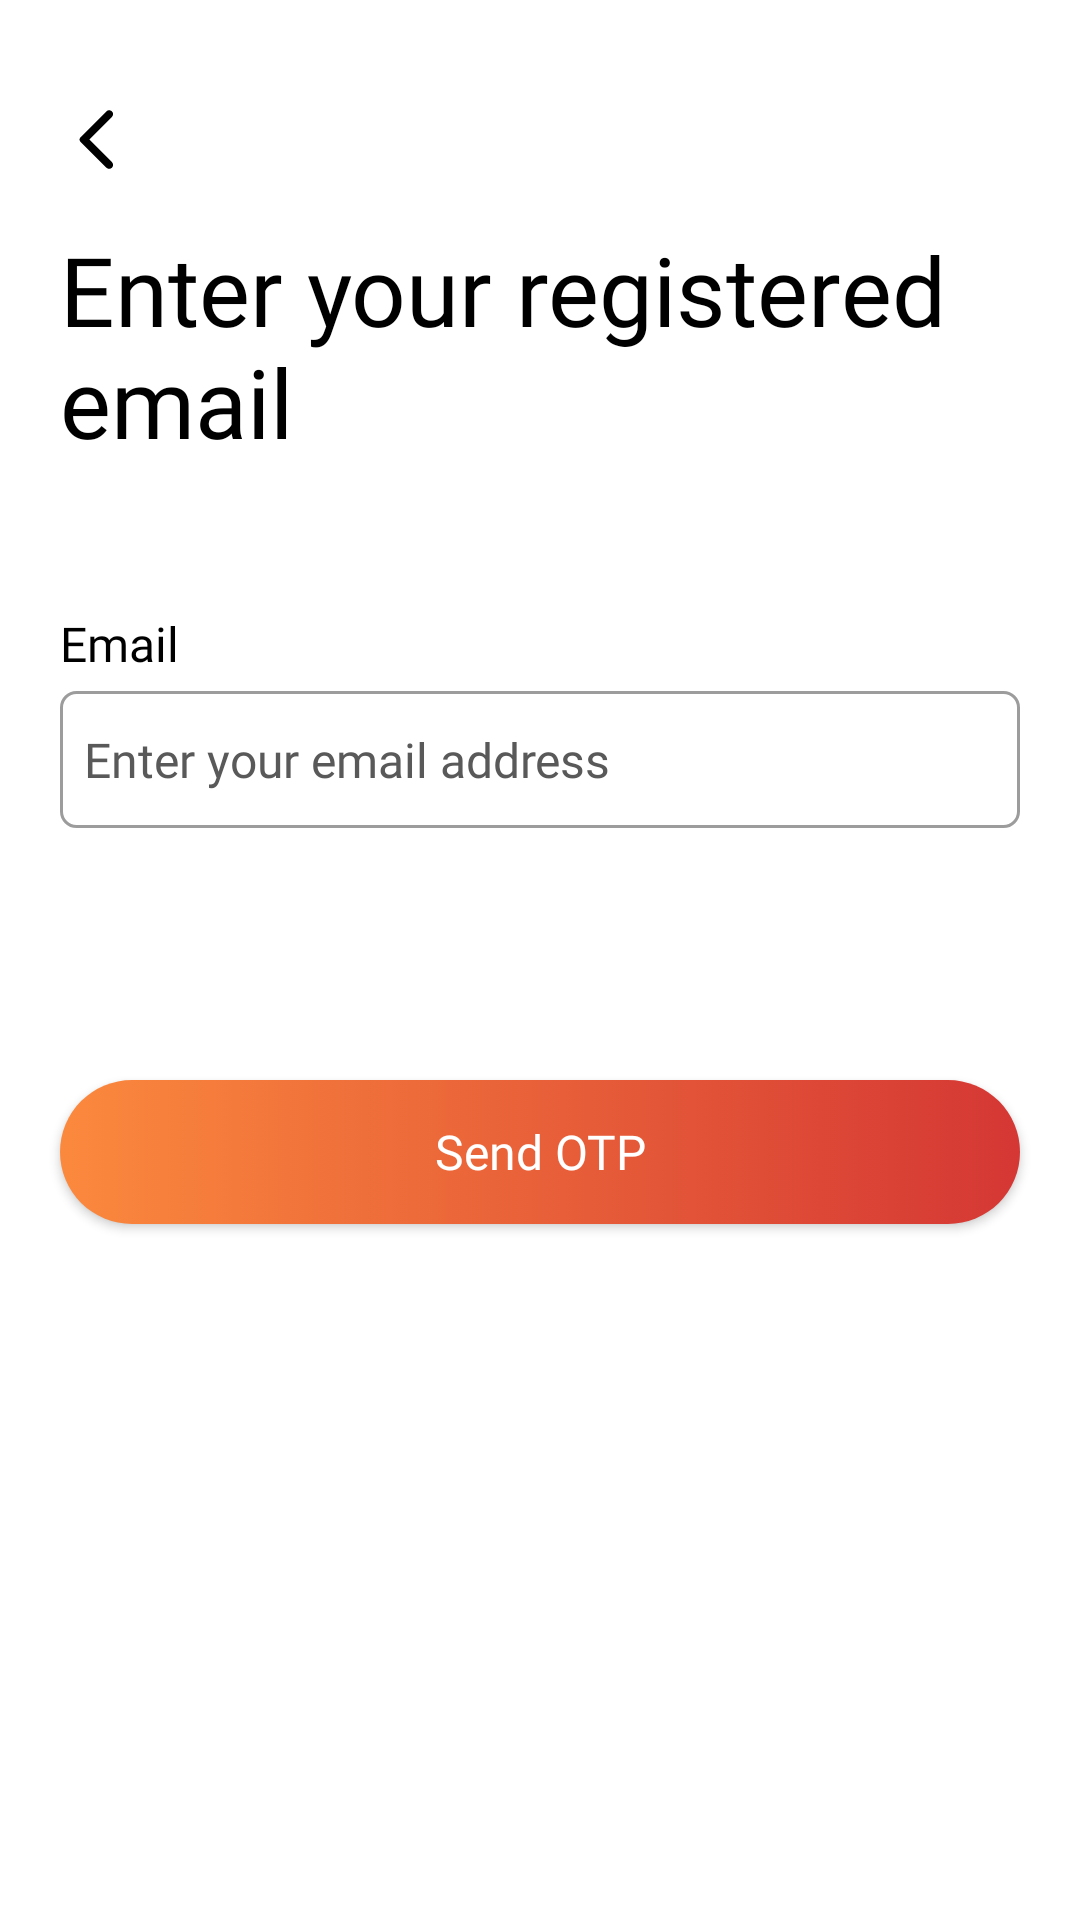

Where to tap for icons on this 1080 × 1920 app screen, as [x,y]:
arrow back: [96,139]
